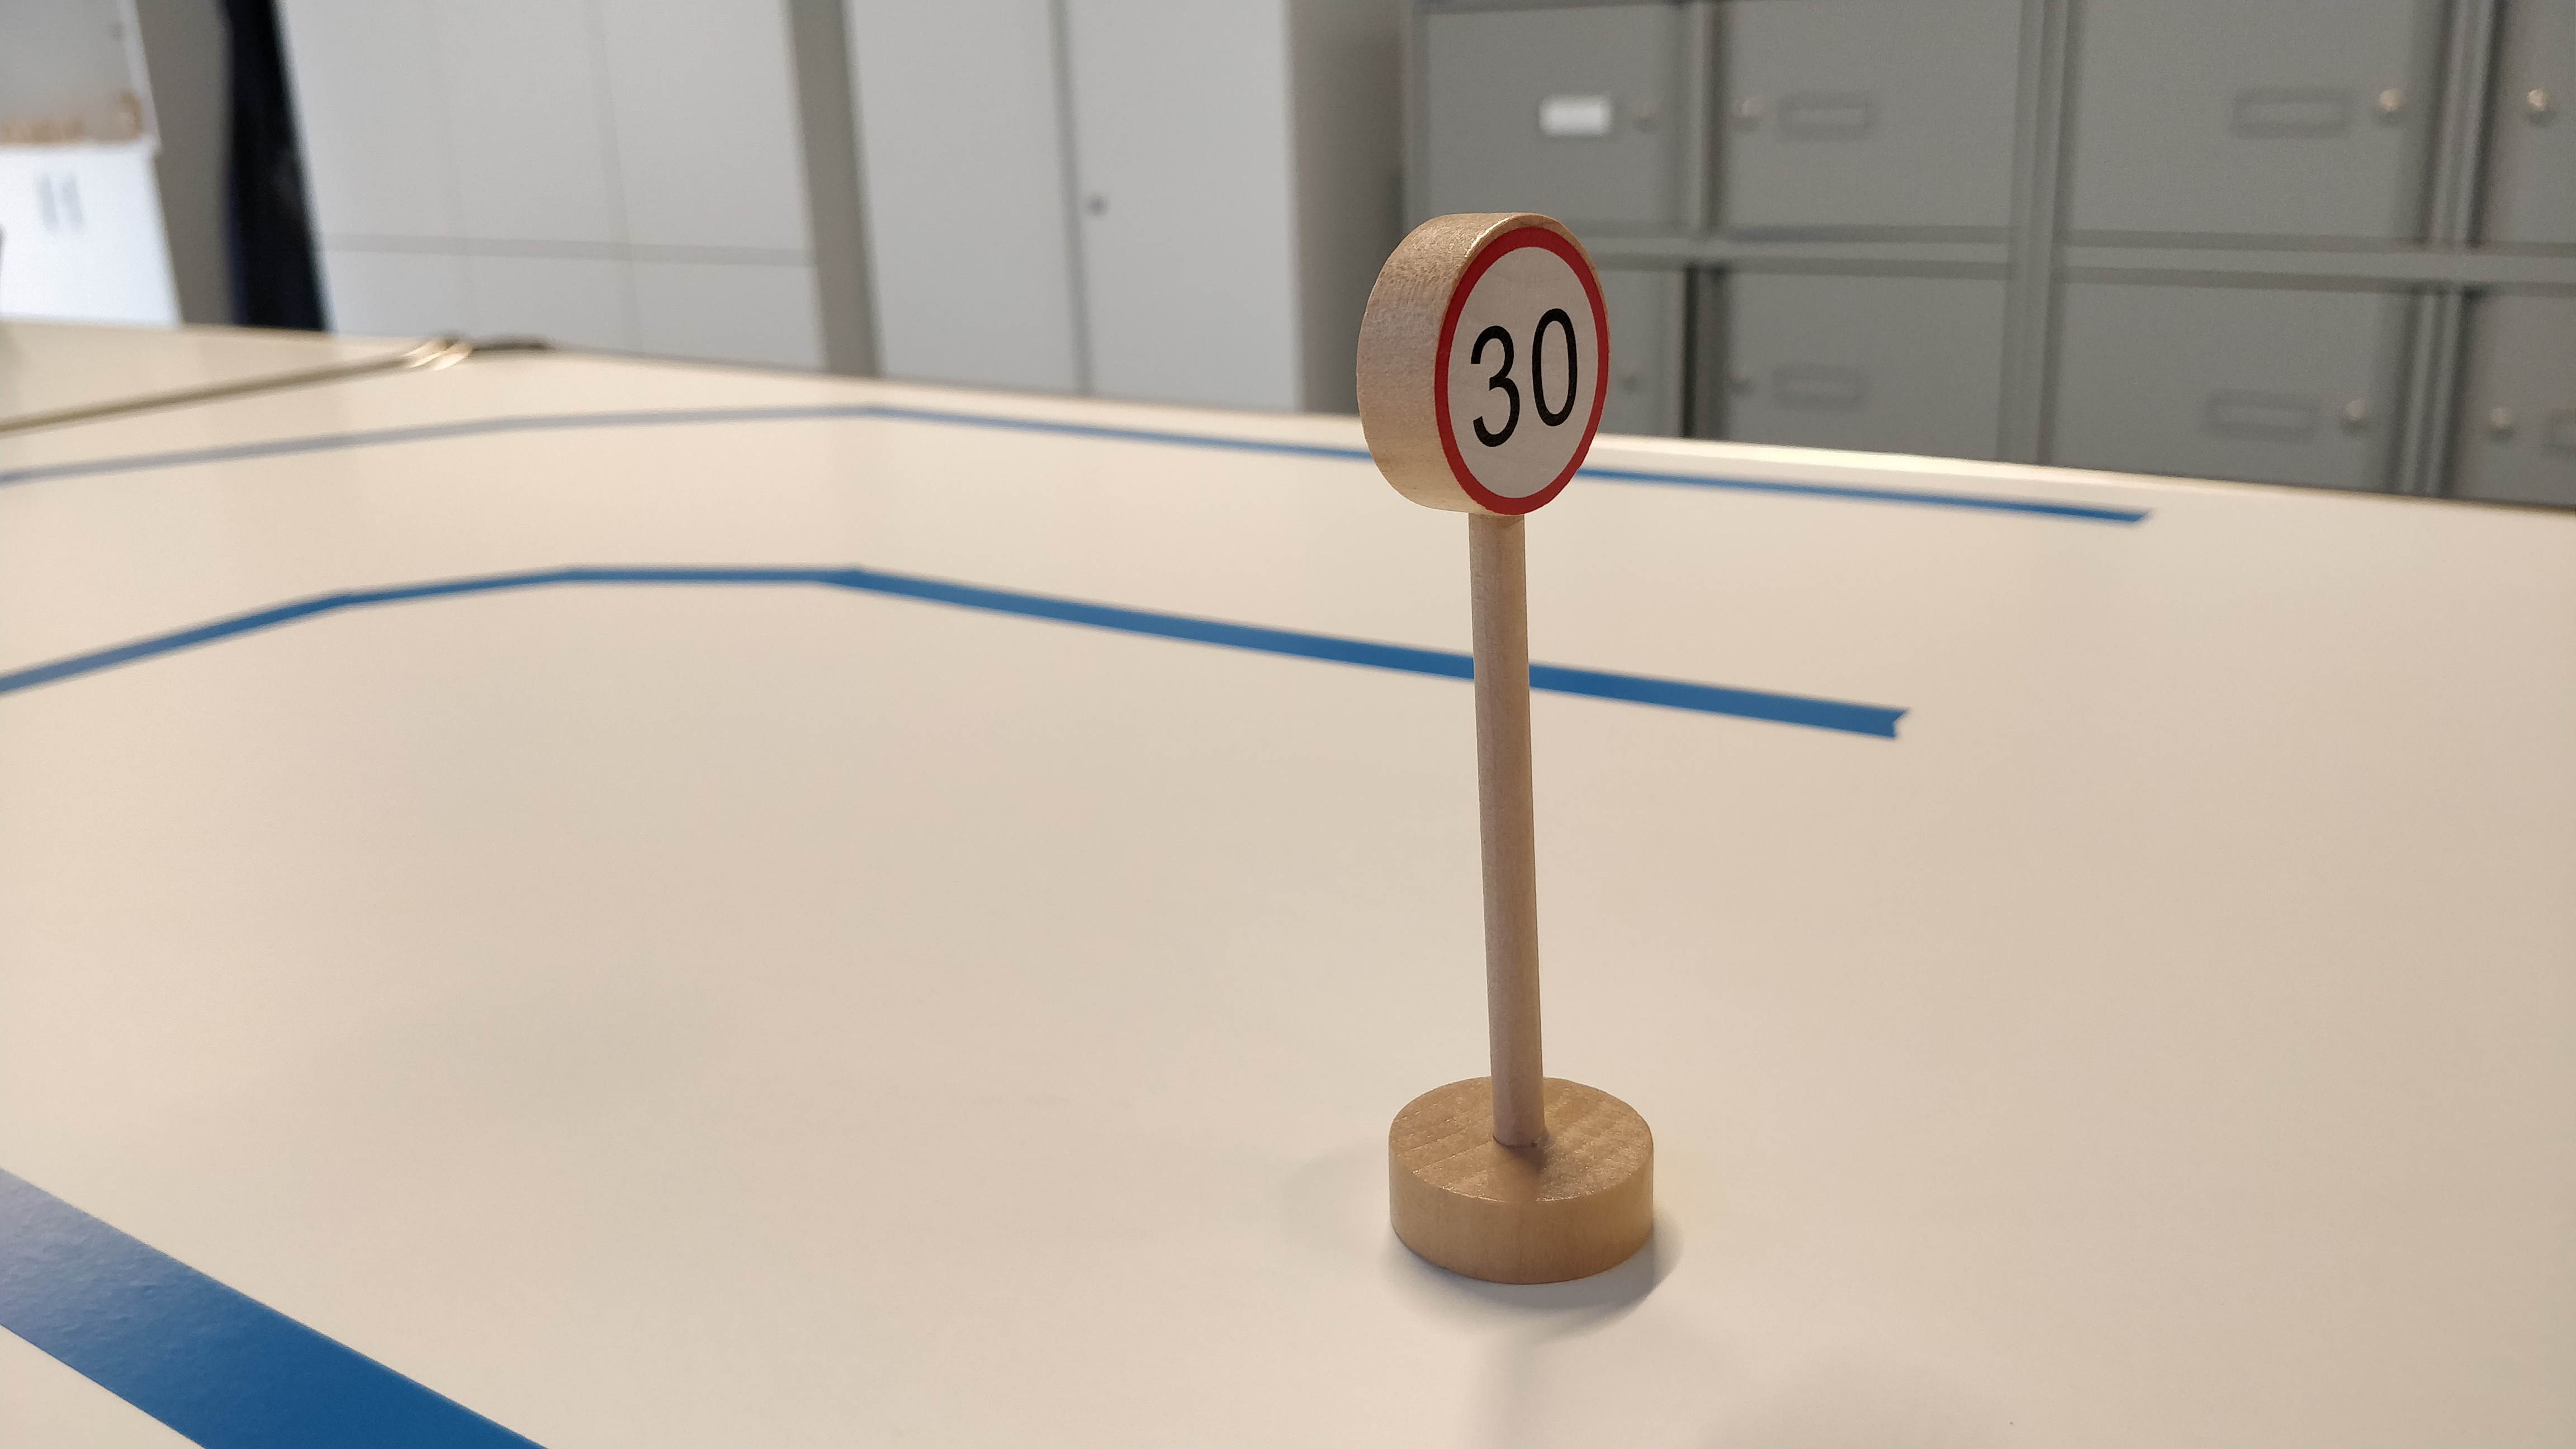Speed Limit 30: (1351, 208, 1617, 520)
